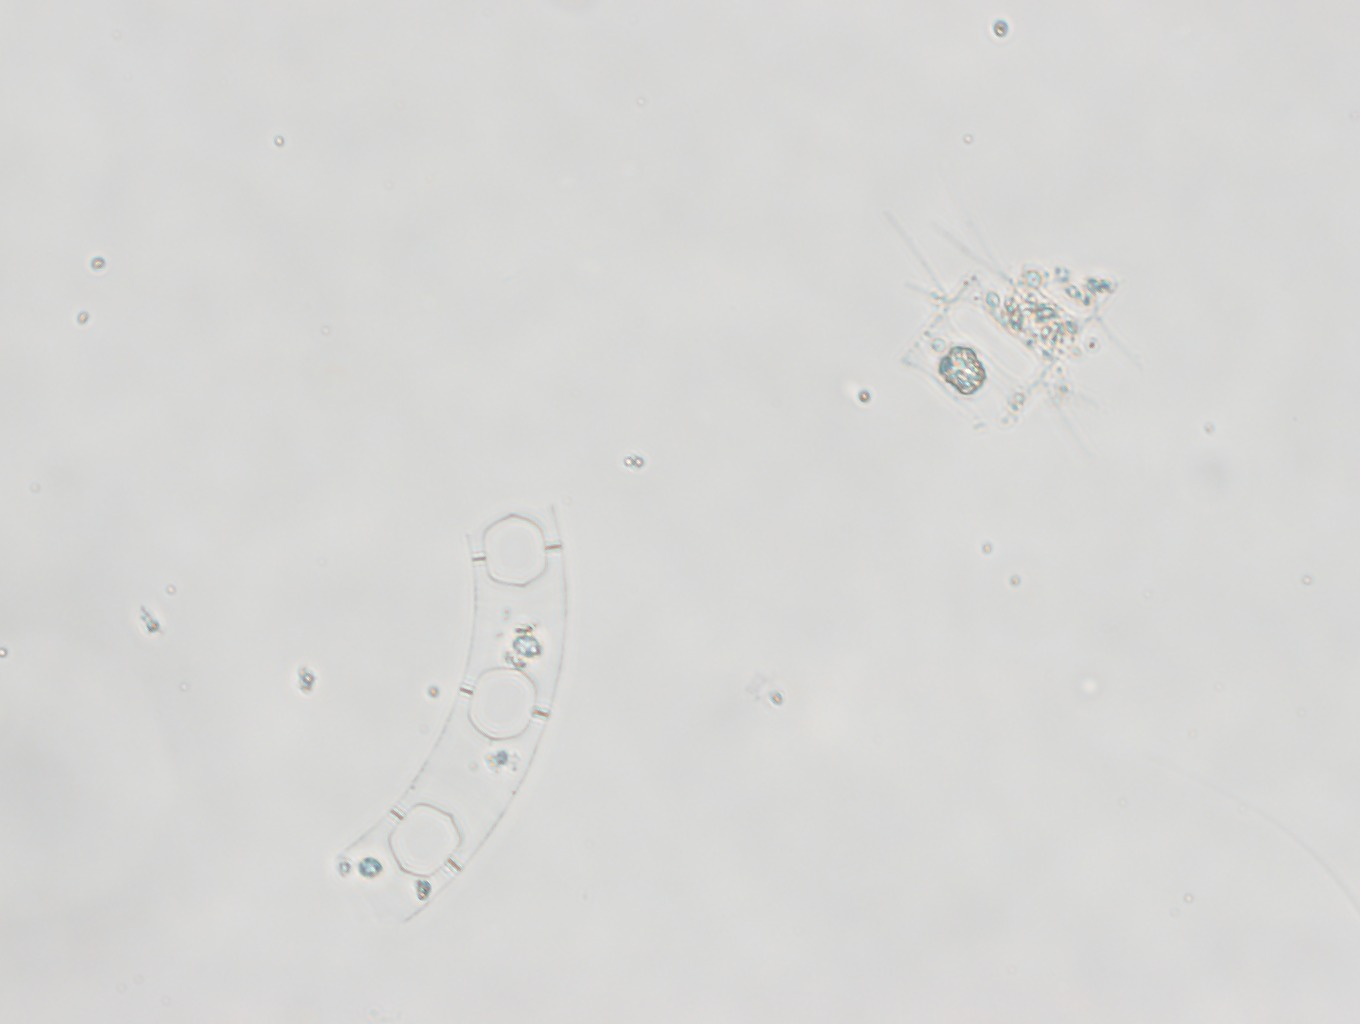chaetoceros: (872, 189, 1153, 477)
eucampia: (328, 499, 574, 927)
